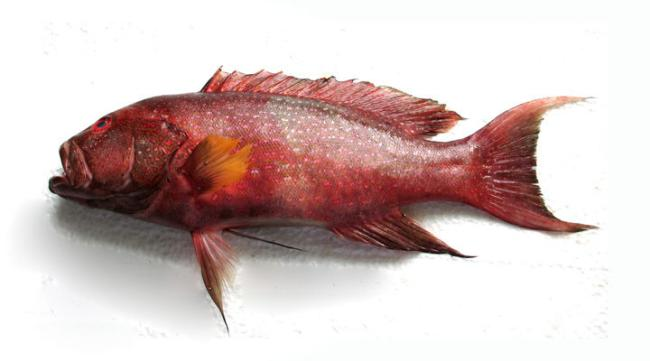fish: (47, 65, 598, 339)
